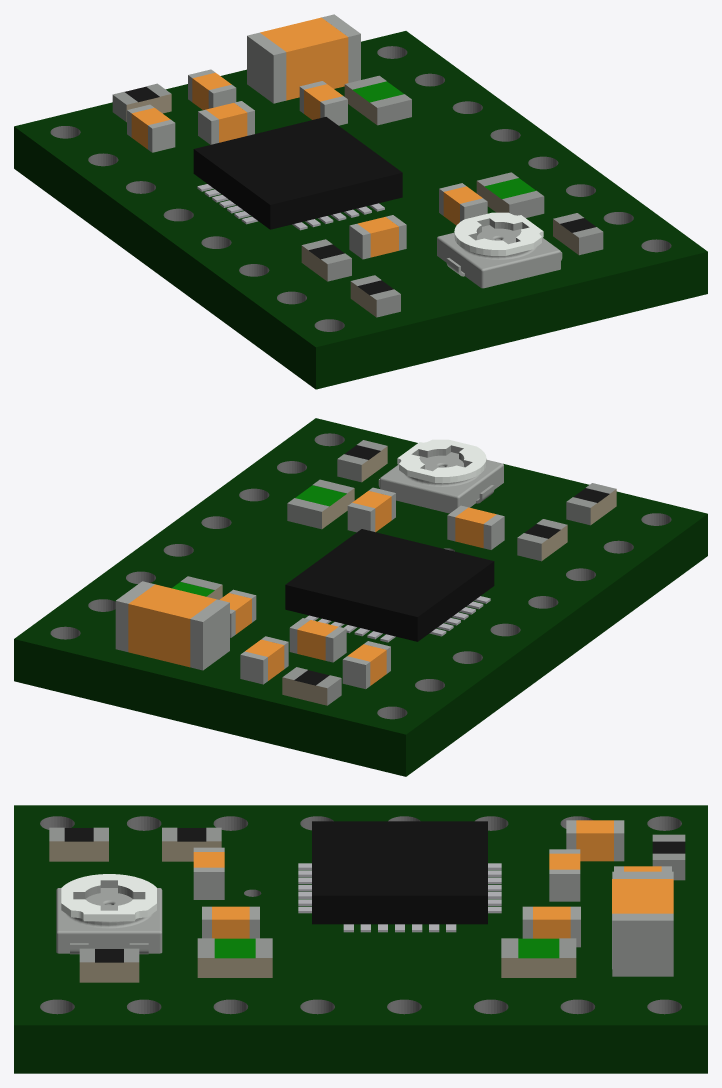
File: pololu-a4988.glb
3 views of the same model, one above another, from view 1: azimuth 30°, elevation 25°; view 2: azimuth 150°, elevation 25°; view 3: azimuth 270°, elevation 25° (orthographic). The views are drawn at different scales.
Visible parts, largest first — view 1: pololu-a4988; view 2: pololu-a4988; view 3: pololu-a4988.
Part boxes in pixels (box(x1,y1,x2,y2)): pololu-a4988: box(14, 14, 707, 389); pololu-a4988: box(14, 418, 707, 776); pololu-a4988: box(14, 805, 707, 1073).
Bounding box in the file's own units: 15.24 × 3.37 × 20.32.
